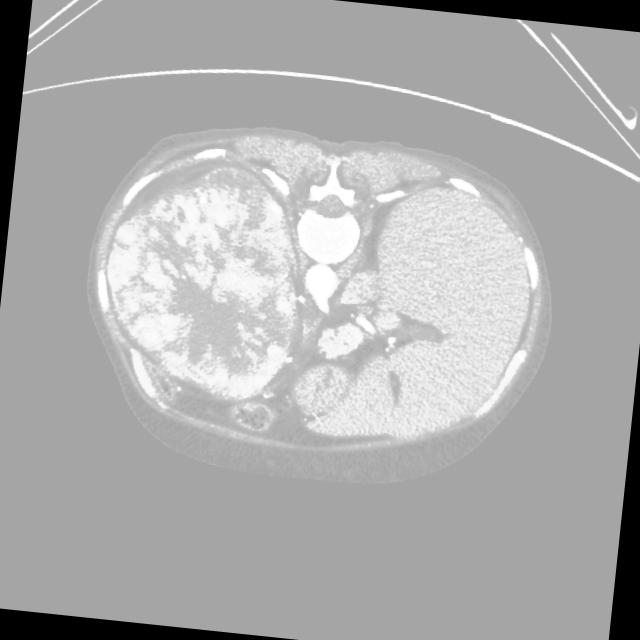TUMOR: (82, 144, 335, 420)
